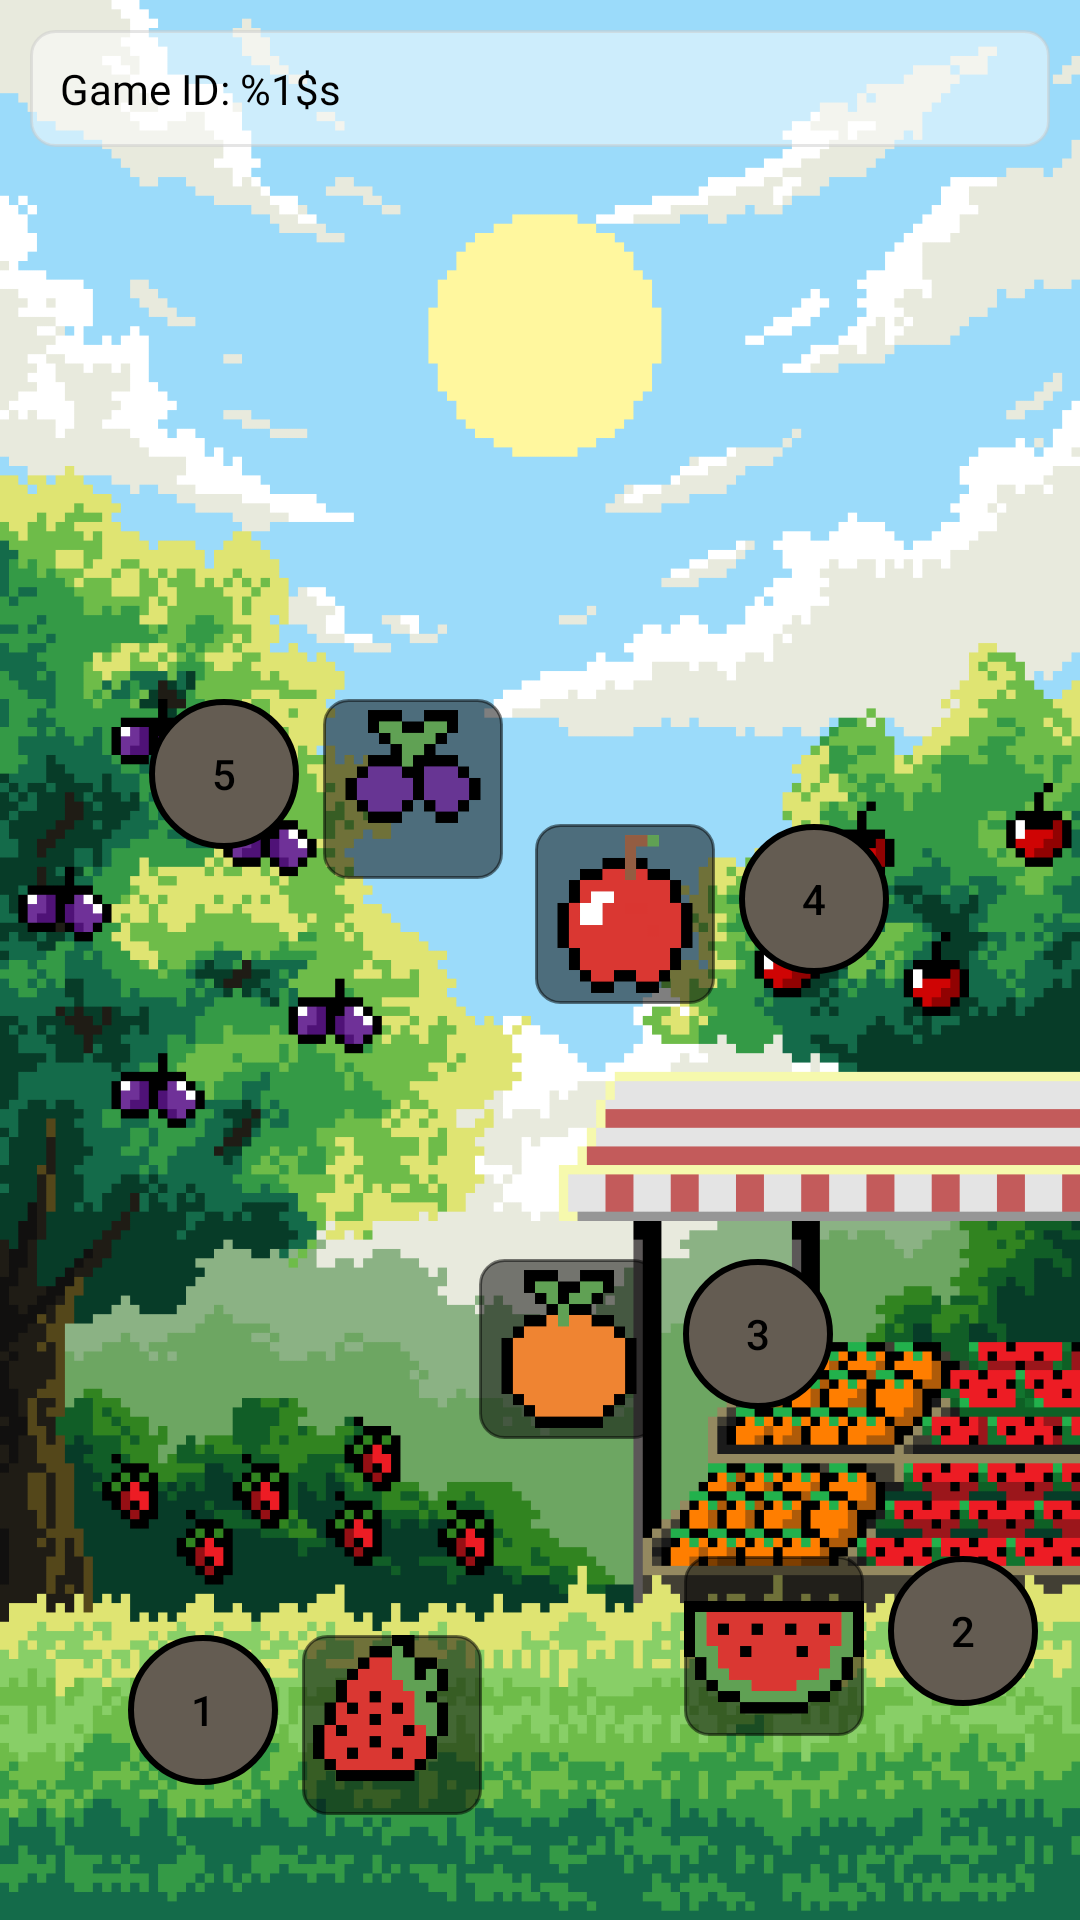

Icon click points for this 1080w x 1920h phone screenshot, format [x,y]:
applepixel: [625,914]
grapepixel: [413,789]
orangepixel: [569,1349]
strawberrypixel: [392,1725]
watermelonpixel: [774,1646]
